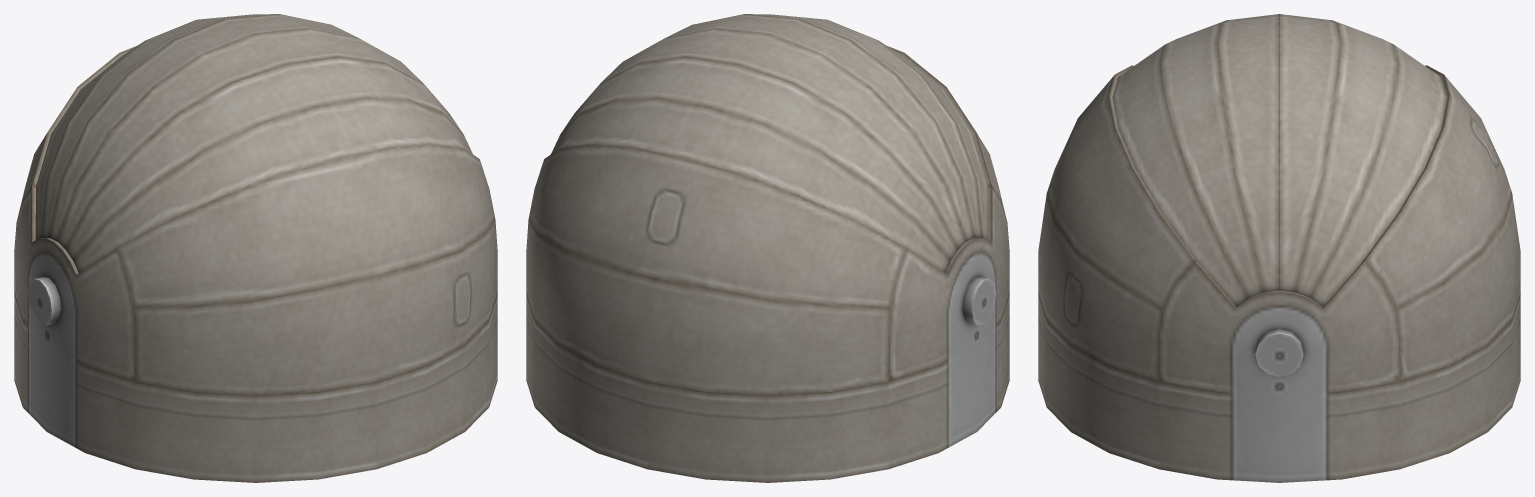
The model's file is kristall telescope complete.obj.
The picture shows the model from 3 angles, left to right: view 1: azimuth 30°, elevation 25°; view 2: azimuth 150°, elevation 25°; view 3: azimuth 270°, elevation 25°; orthographic projection.
Visible parts, largest first — view 1: 1, door1, door2; view 2: 1, door2, door1; view 3: 1, door2, door1.
Boxes of the visible parts, box(x1,y1,x2,y2) form: 1: box(14, 46, 497, 482); door1: box(57, 28, 472, 272); door2: box(35, 14, 357, 241); 1: box(526, 46, 1009, 482); door2: box(551, 28, 966, 272); door1: box(666, 14, 988, 241); 1: box(1038, 65, 1520, 482); door2: box(1279, 14, 1446, 307); door1: box(1112, 14, 1279, 307).
Size of the model in its own units: 0.775 by 0.5938 by 0.75.
Materials: 3 (3 with a texture image).
